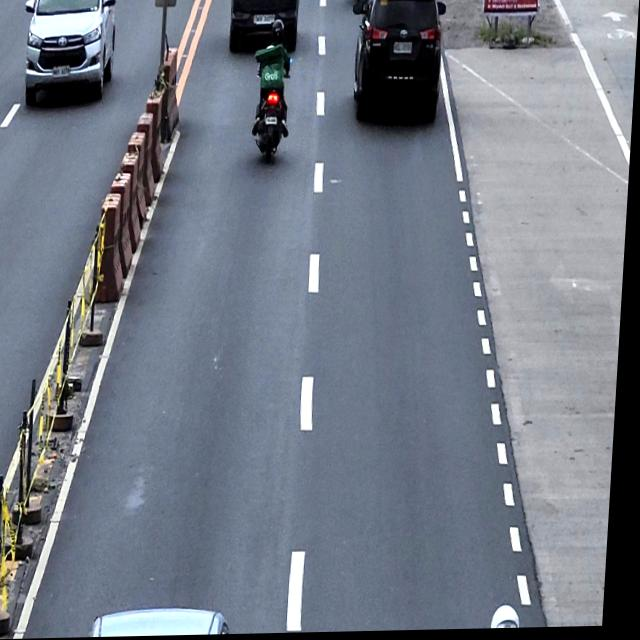Car: (348, 0, 448, 126), (21, 0, 117, 106), (98, 607, 239, 637), (228, 0, 300, 54)
License-Plate: (393, 41, 414, 57), (253, 14, 276, 27), (53, 65, 72, 78), (266, 117, 280, 127)
Motorcycle: (250, 50, 294, 163)
